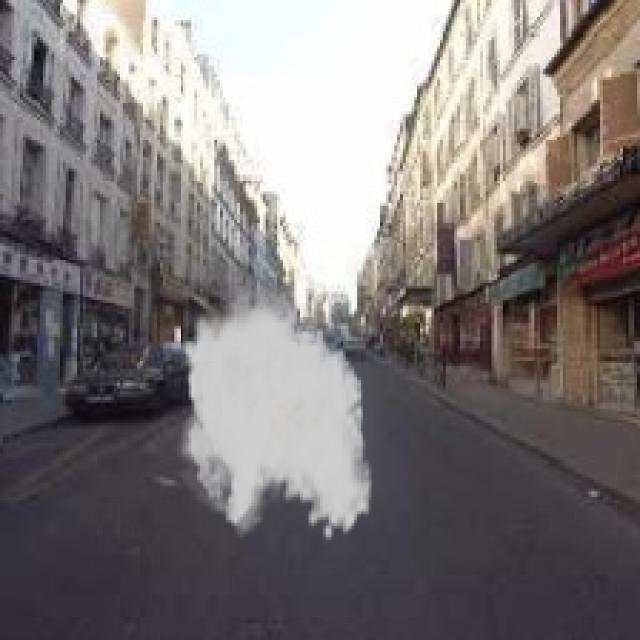smoke: (172, 277, 374, 543)
